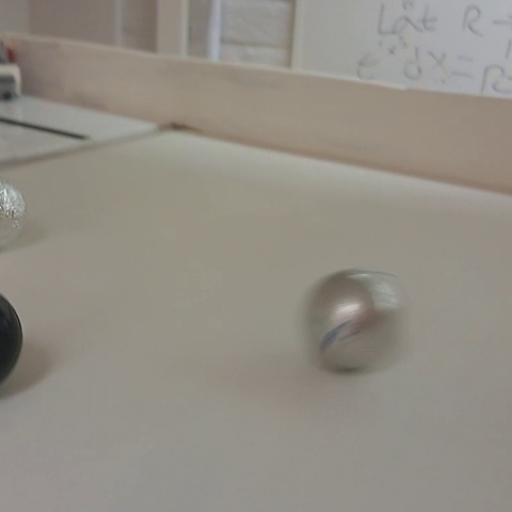alive: (306, 265, 405, 375), (0, 174, 28, 248)
dead: (0, 286, 23, 391)
